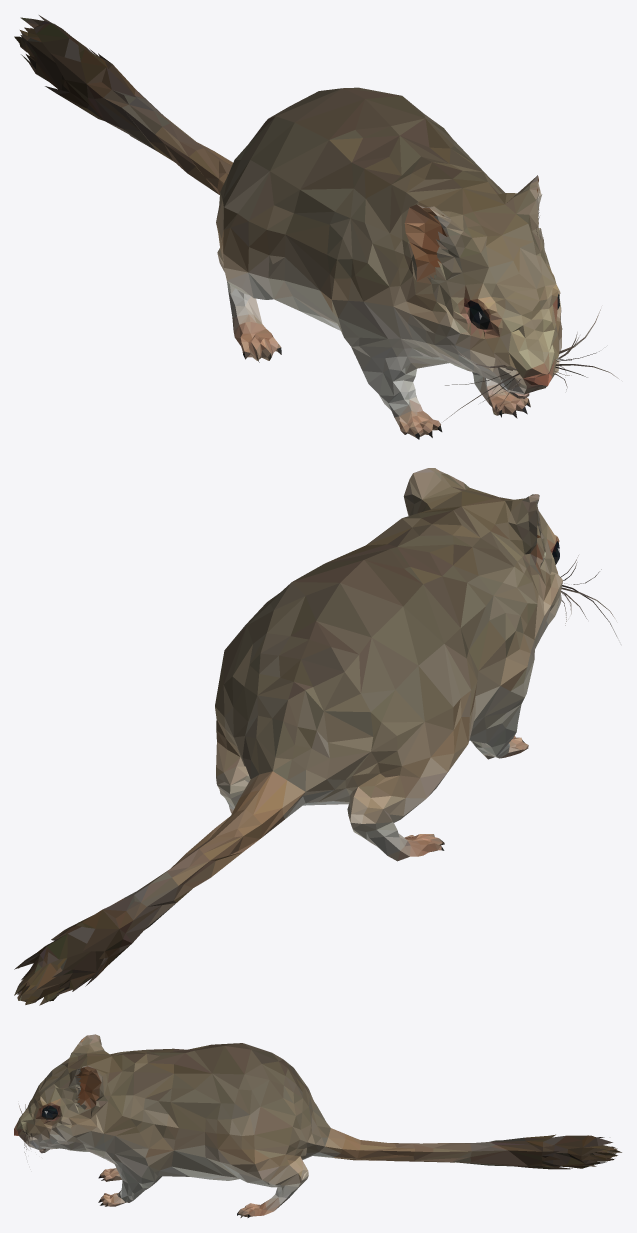
Rendered from Mouse.glb.
3 renders of one model, top to bottom at view 1: azimuth 30°, elevation 25°; view 2: azimuth 150°, elevation 25°; view 3: azimuth 270°, elevation 25°, orthographic. The views are drawn at different scales.
Size of the model in its own units: 0.6473 by 0.6638 by 2.5.
Materials: 1 (1 with a texture image).
